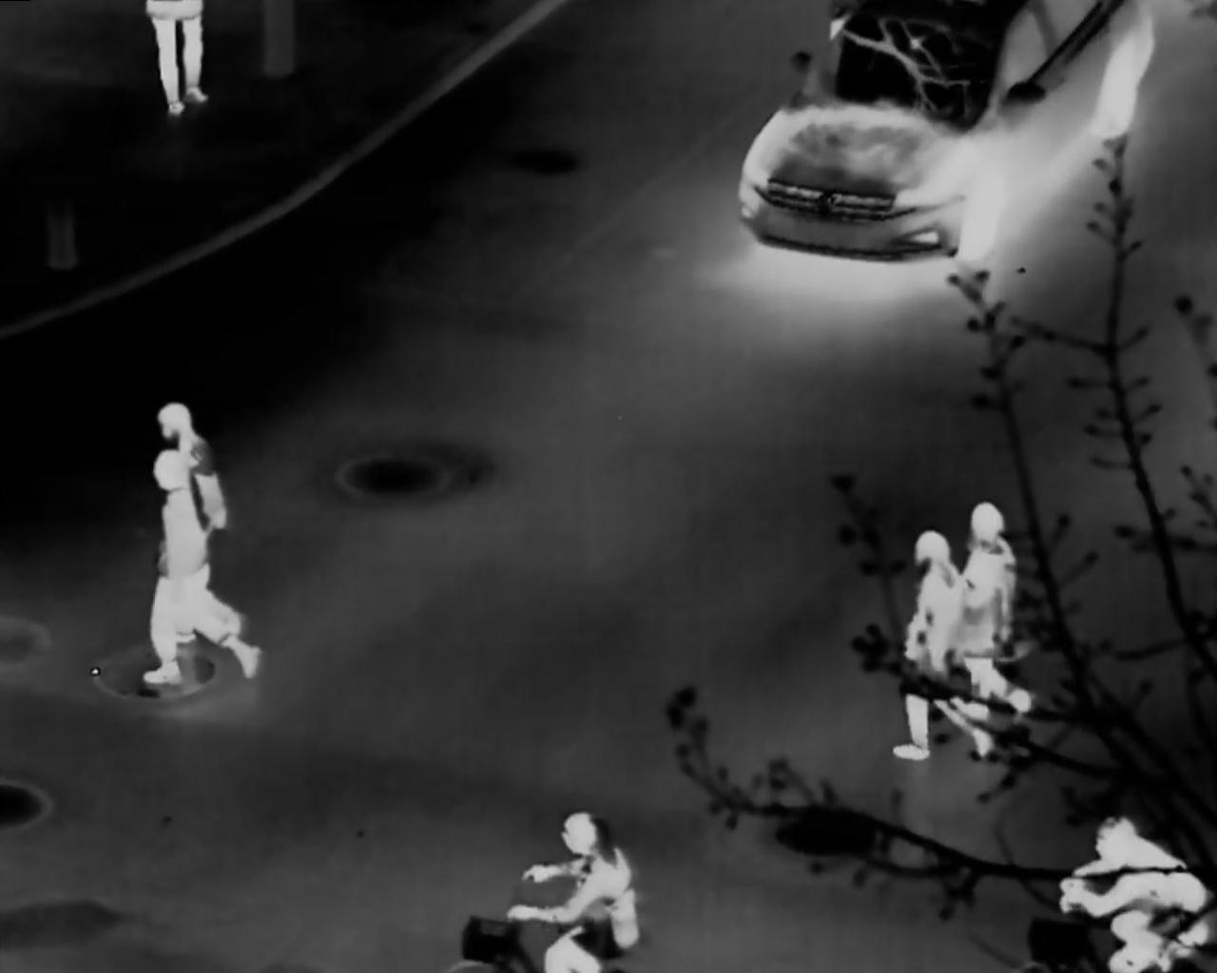person: (142, 447, 263, 689), (1059, 814, 1217, 971), (891, 527, 994, 760), (504, 808, 639, 973), (959, 498, 1037, 724), (154, 397, 235, 525)
